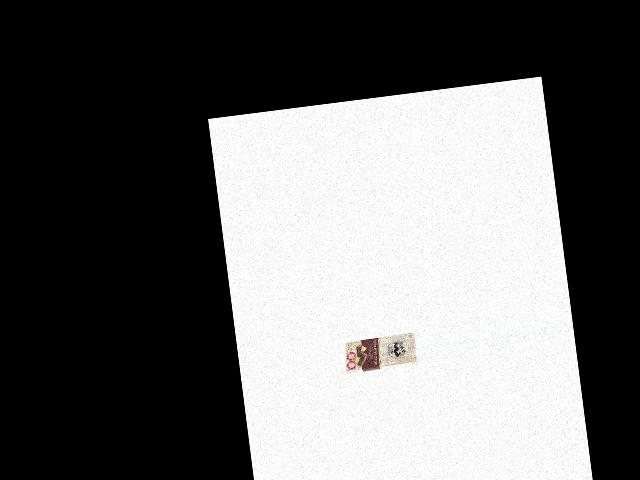chocolate: (340, 331, 418, 379)
